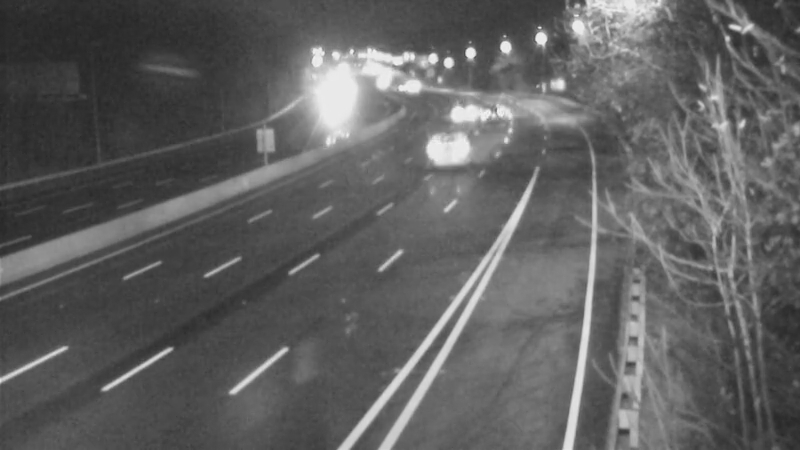vehicle: (416, 111, 496, 191), (384, 61, 434, 111), (369, 62, 419, 112), (436, 83, 486, 133), (467, 90, 517, 140)
